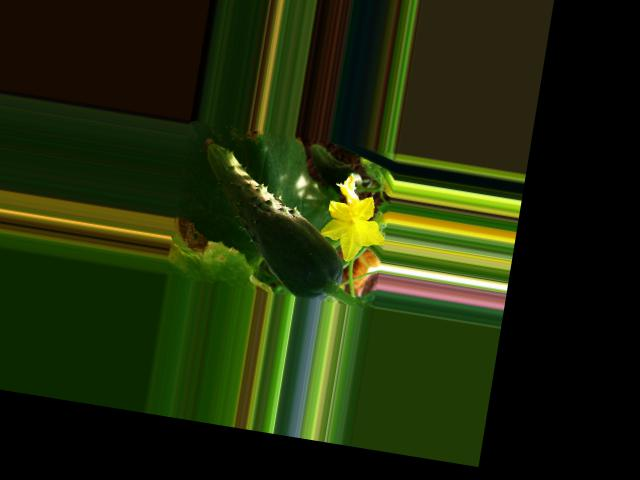cucumber: (182, 137, 361, 303)
